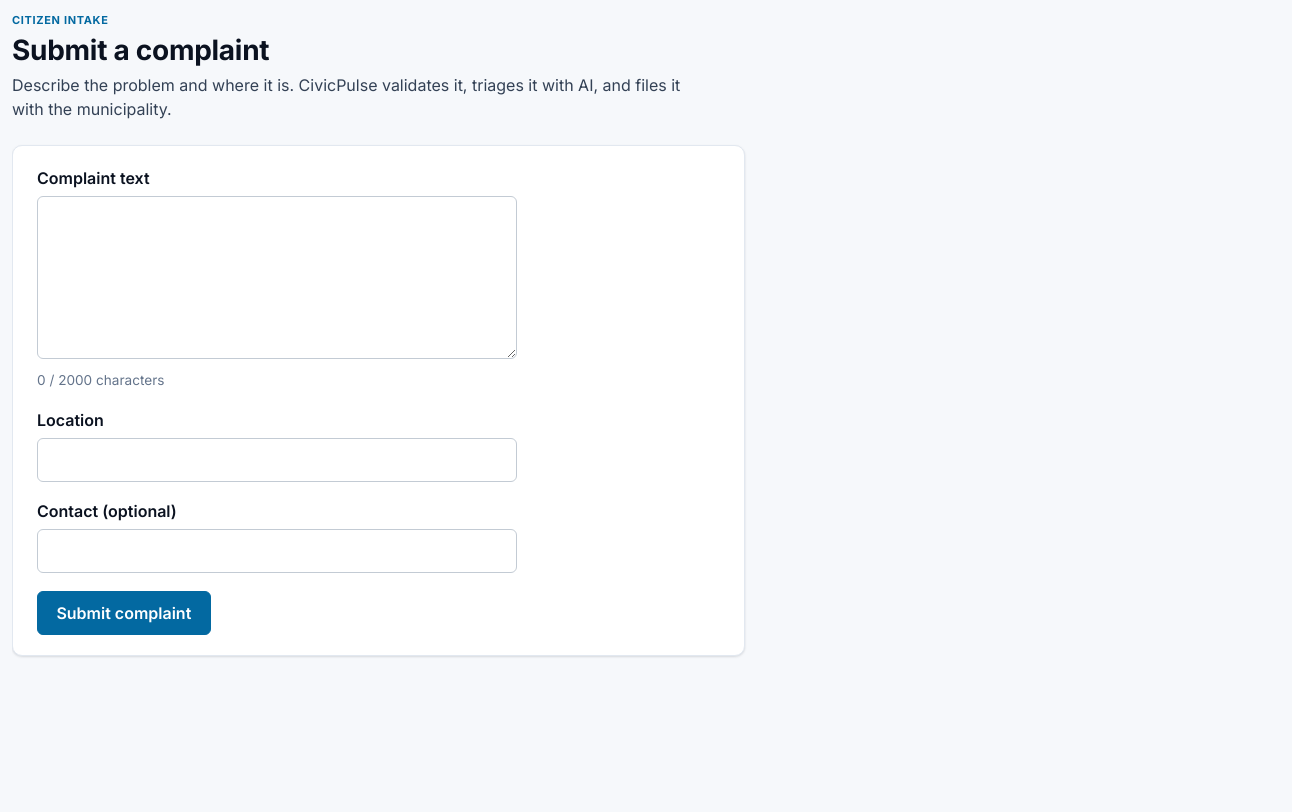
Test case: SubmitPage › renders server field-level 400 errors alongside client validation
Type "Valid complaint text here" into the text box labelled "Complaint text".
click(277, 278); type("Valid complaint text here")  # box [37, 196, 517, 360]
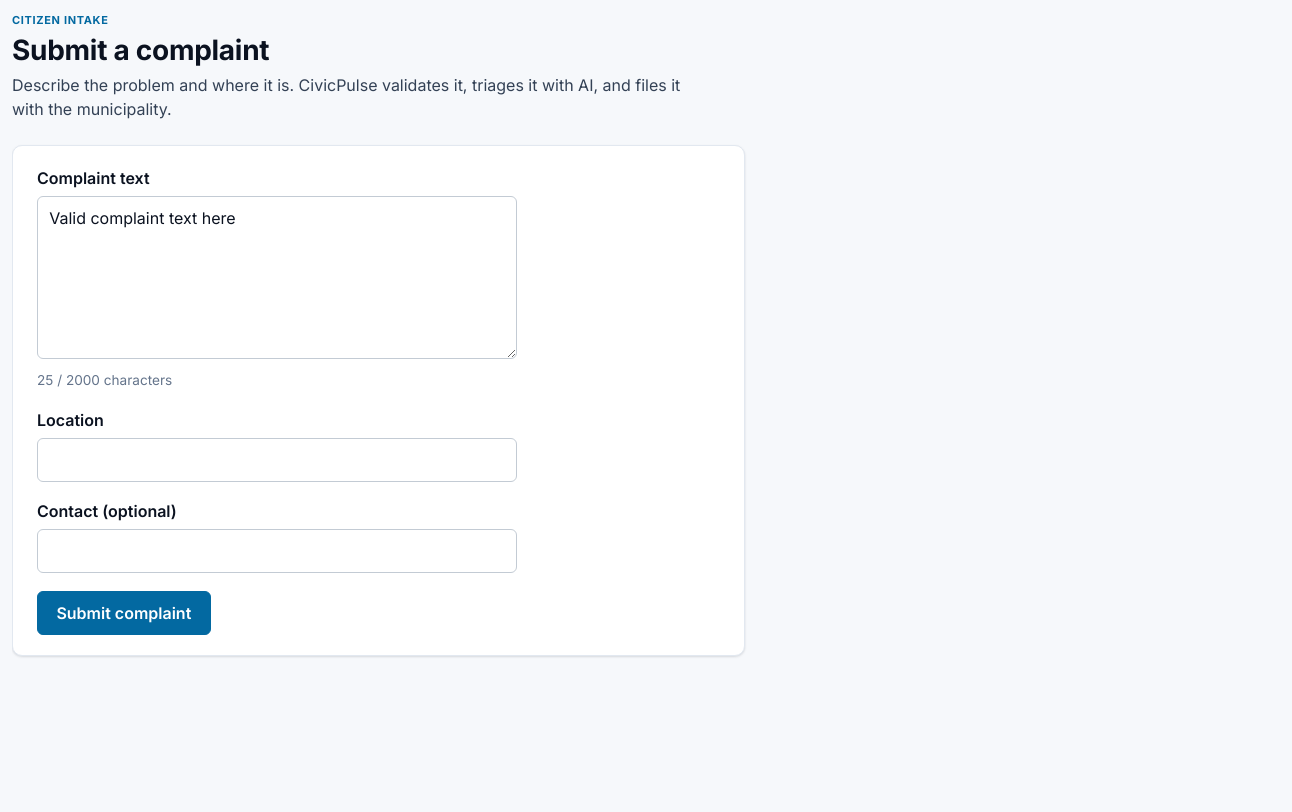
Type "Karachi, Saddar" into the field labelled "Location".
click(277, 460); type("Karachi, Saddar")  # box [37, 438, 517, 482]
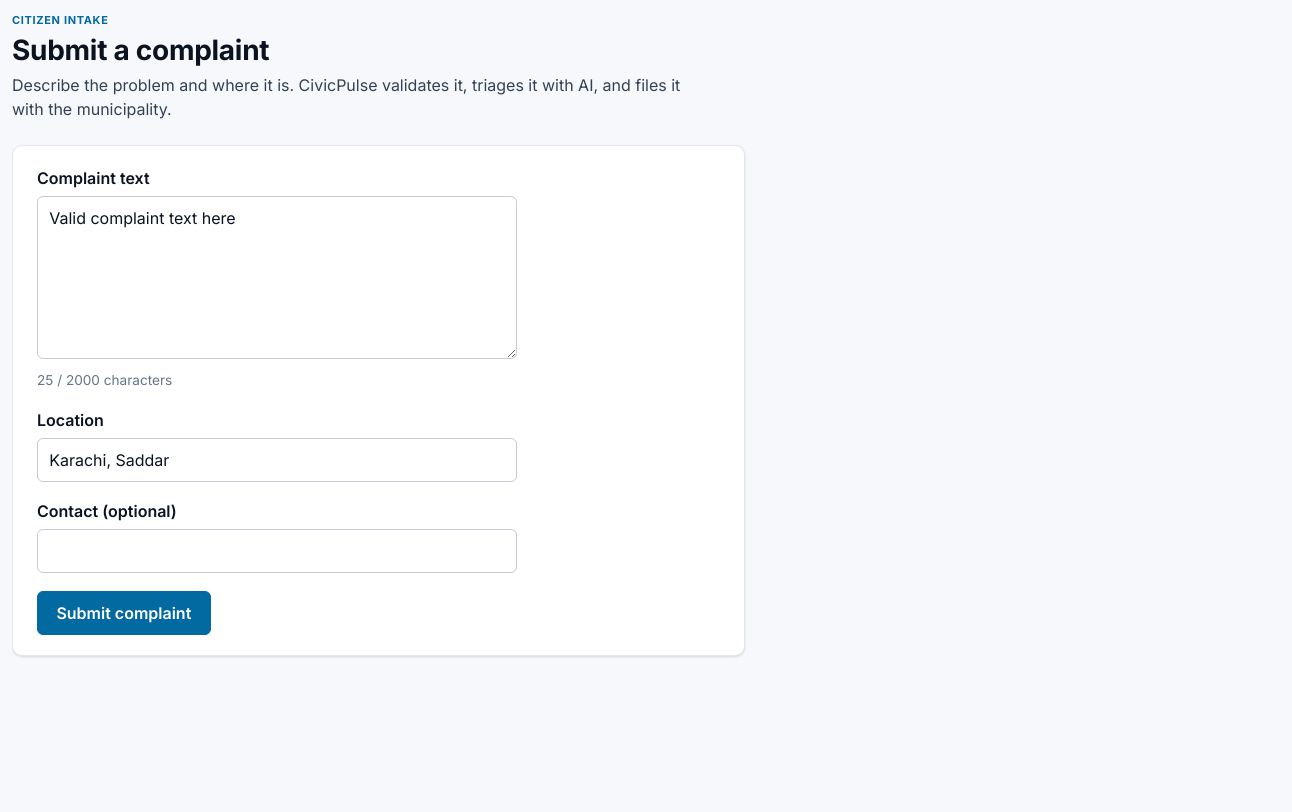
Click the button "Submit complaint".
click(124, 613)  # box [37, 591, 211, 635]
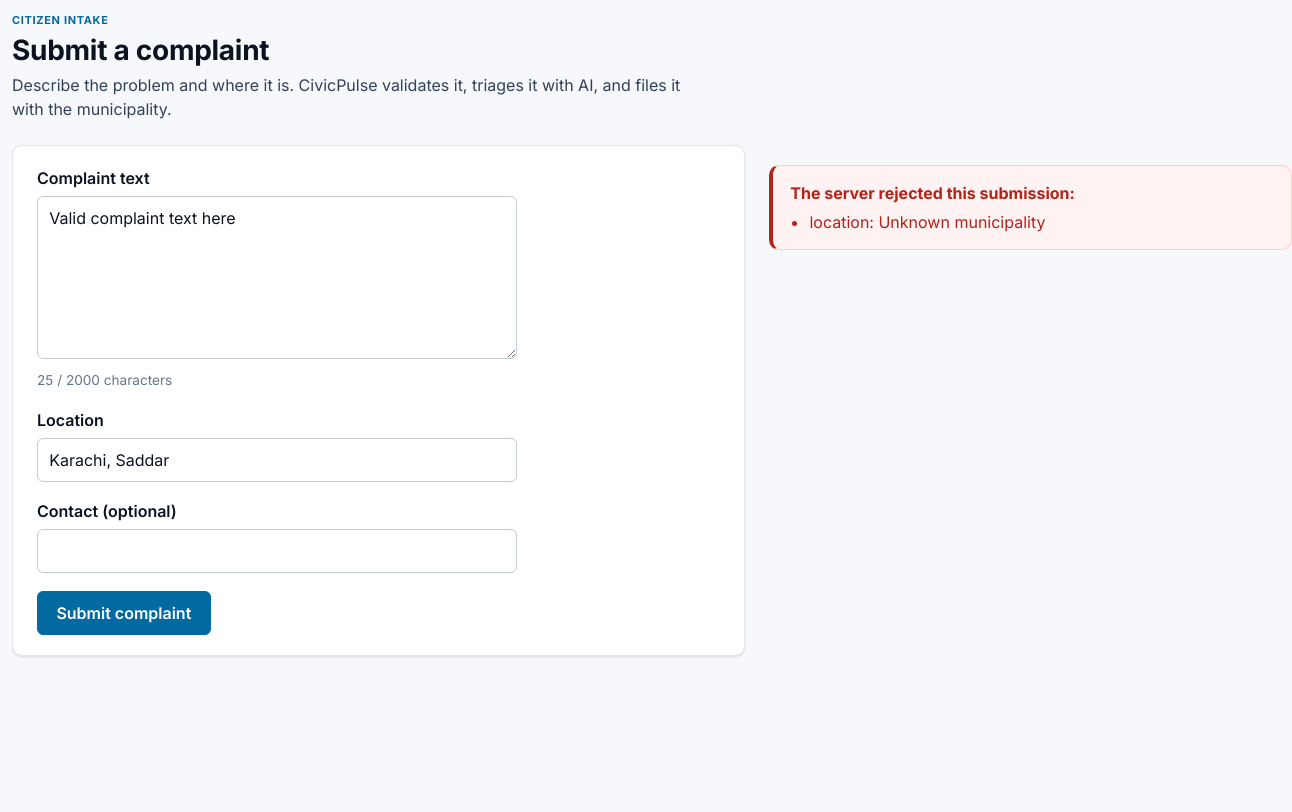
Now the list item "location: Unknown municipality" is shown, box [809, 212, 1045, 232]
